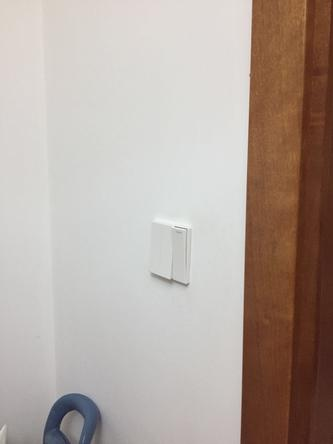switch: (150, 223, 170, 279), (172, 226, 189, 277)
